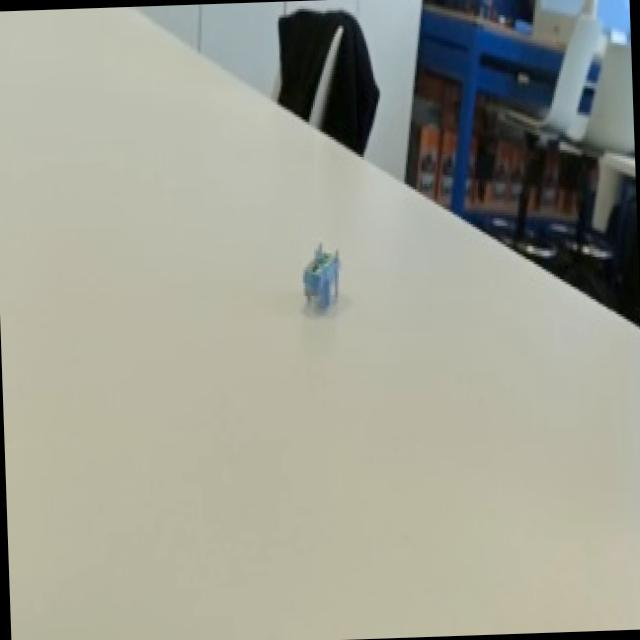3_NanoBug_Celeste: (284, 238, 362, 320)
